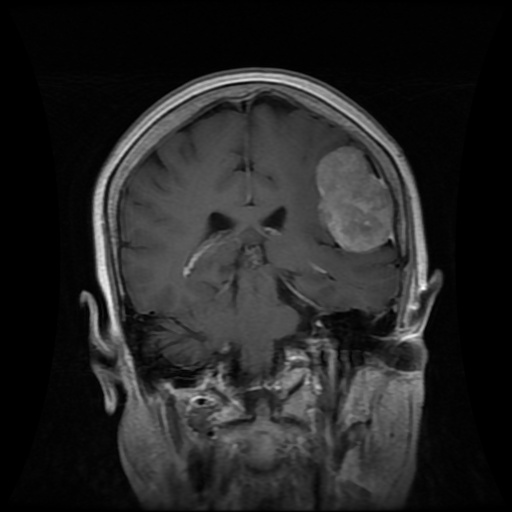meningioma: (315, 146, 393, 252)
